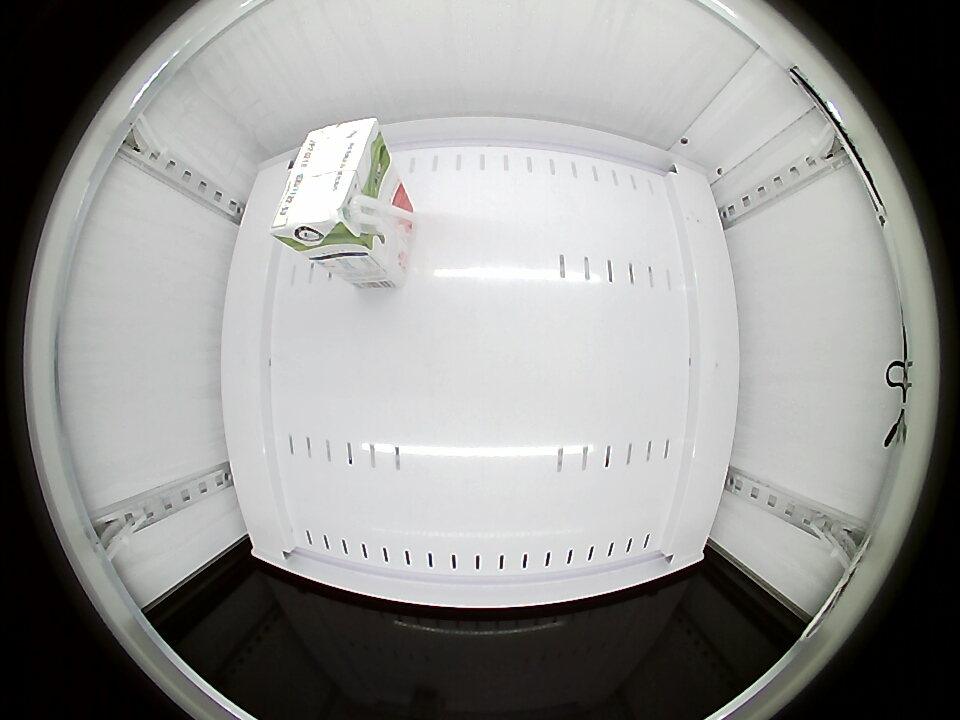mengniu: (270, 117, 386, 253)
